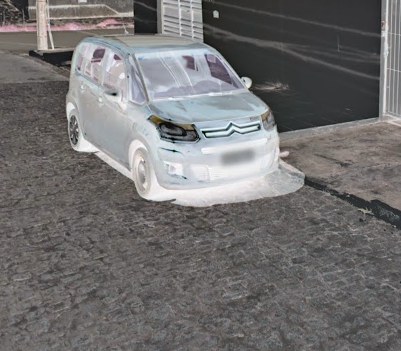car: (63, 14, 281, 202)
